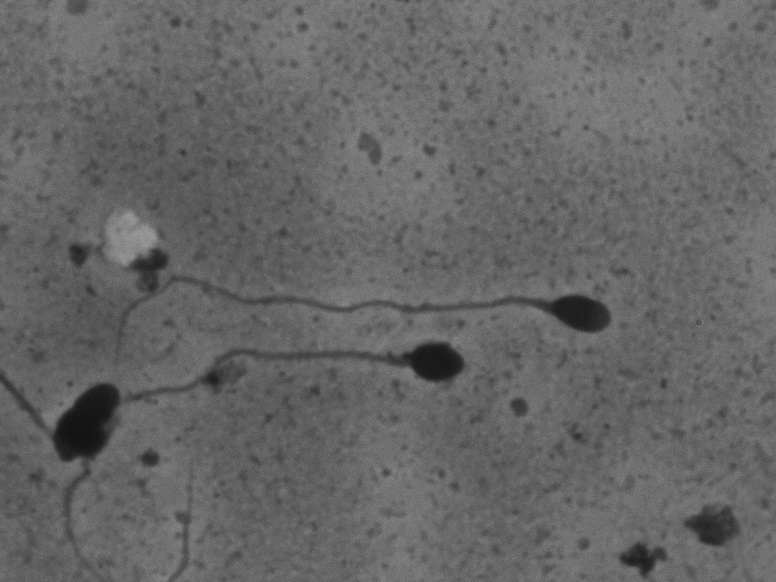Abnormal: (52, 335, 478, 576)
Normal: (79, 266, 627, 376)
